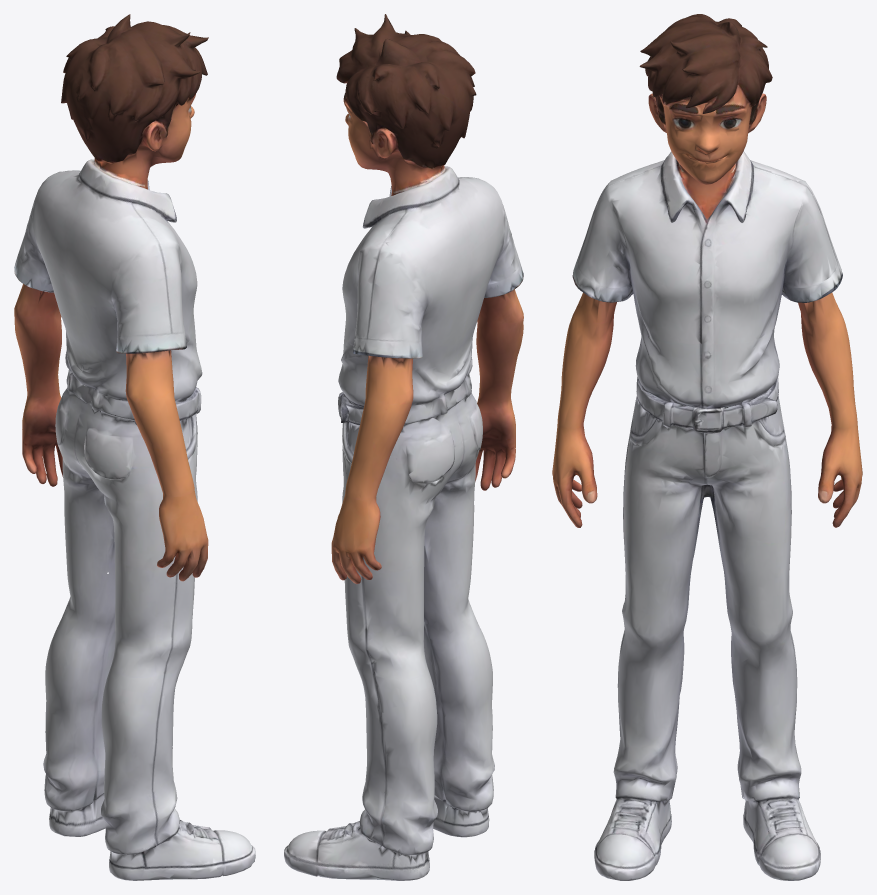
The model's file is teen-boy.glb.
3 renders of one model, left to right at view 1: azimuth 30°, elevation 25°; view 2: azimuth 150°, elevation 25°; view 3: azimuth 270°, elevation 25°, orthographic.
Parts seen in each view (by area): view 1: tripo_node_085ef2b6-0b3d-4822-81dd-244341536483; view 2: tripo_node_085ef2b6-0b3d-4822-81dd-244341536483; view 3: tripo_node_085ef2b6-0b3d-4822-81dd-244341536483.
Part boxes in pixels (x1=…): tripo_node_085ef2b6-0b3d-4822-81dd-244341536483: x1=14, y1=14, x2=255, y2=880; tripo_node_085ef2b6-0b3d-4822-81dd-244341536483: x1=284, y1=14, x2=523, y2=880; tripo_node_085ef2b6-0b3d-4822-81dd-244341536483: x1=552, y1=14, x2=862, y2=880.
Bounding box in the file's own units: 0.1851 × 0.9988 × 0.3395.
1 material, 1 textured.
